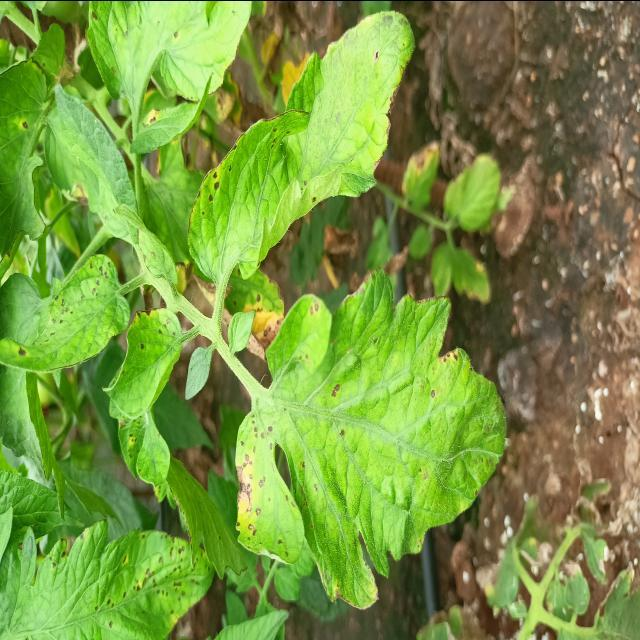Tomato mosaic virus leaf: (234, 267, 512, 614), (185, 1, 418, 280), (41, 509, 219, 640), (0, 246, 120, 376), (109, 305, 183, 496), (190, 263, 284, 361), (0, 54, 48, 155)
